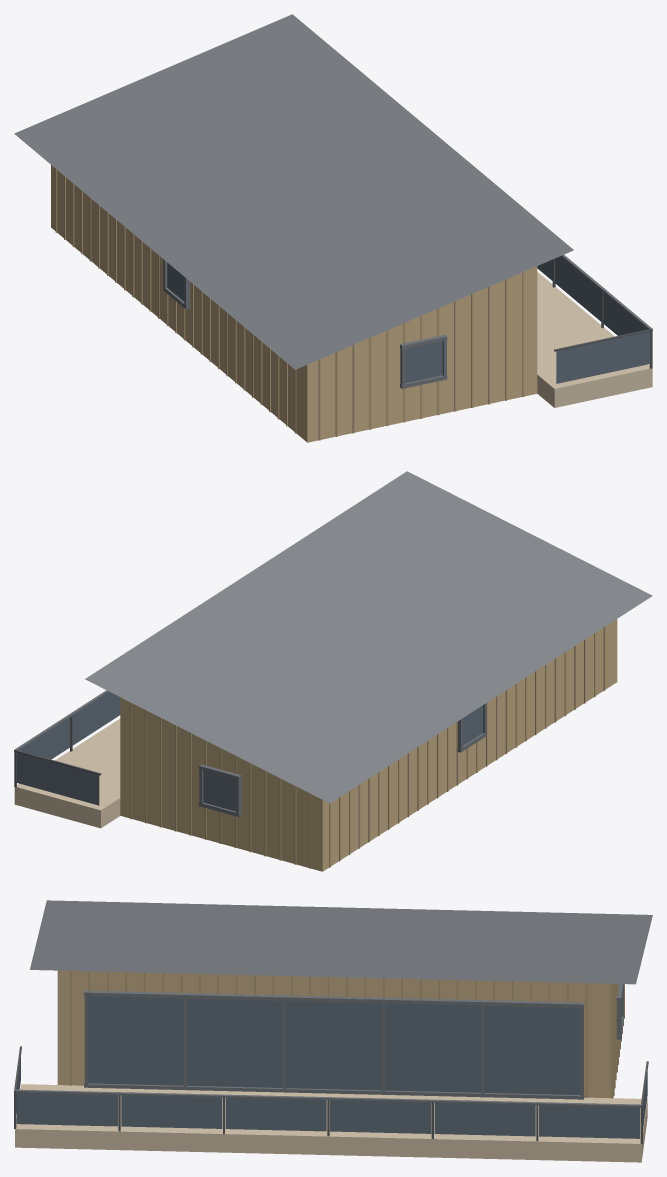
3 renders of one model, top to bottom at view 1: azimuth 30°, elevation 25°; view 2: azimuth 150°, elevation 25°; view 3: azimuth 270°, elevation 25°, orthographic. The views are drawn at different scales.
Visible parts, largest first — view 1: slate, door_wood, door_wood_p, larch, window_glass_007, slate_dk, window_glass_002, window_glass_014, window_glass_001, pipe; view 2: slate, door_wood, door_wood_p, larch, window_glass_008, slate_dk, window_glass_005, window_glass_006, window_glass_015; view 3: slate, larch, door_wood, slate_dk, window_glass_012, window_glass_013, window_glass_009, window_glass_011, window_glass_010, window_glass_001, window_glass_002, window_glass_003 (+5 smaller).
Part boxes in pixels (bbox=[...]): slate: bbox=[14, 14, 573, 369]; door_wood: bbox=[51, 165, 537, 442]; door_wood_p: bbox=[55, 169, 524, 440]; larch: bbox=[537, 272, 652, 407]; window_glass_007: bbox=[556, 331, 650, 383]; slate_dk: bbox=[163, 255, 652, 388]; window_glass_002: bbox=[555, 256, 601, 321]; window_glass_014: bbox=[405, 341, 442, 382]; window_glass_001: bbox=[603, 292, 647, 335]; pipe: bbox=[552, 258, 652, 368]; slate: bbox=[85, 471, 652, 803]; door_wood: bbox=[120, 619, 617, 871]; door_wood_p: bbox=[130, 627, 605, 868]; larch: bbox=[14, 718, 120, 828]; window_glass_008: bbox=[16, 752, 99, 805]; slate_dk: bbox=[14, 690, 486, 816]; window_glass_005: bbox=[72, 692, 120, 745]; window_glass_006: bbox=[19, 718, 70, 759]; window_glass_015: bbox=[203, 770, 235, 811]; slate: bbox=[30, 900, 652, 984]; larch: bbox=[15, 1084, 647, 1162]; door_wood: bbox=[58, 970, 611, 1098]; slate_dk: bbox=[15, 984, 641, 1107]; window_glass_012: bbox=[385, 1003, 481, 1092]; window_glass_013: bbox=[484, 1006, 580, 1094]; window_glass_009: bbox=[88, 996, 183, 1085]; window_glass_011: bbox=[286, 1001, 381, 1090]; window_glass_010: bbox=[187, 999, 282, 1087]; window_glass_001: bbox=[16, 1092, 117, 1126]; window_glass_002: bbox=[121, 1095, 222, 1128]; window_glass_003: bbox=[225, 1097, 326, 1131].
Bounding box in the file's own units: 10.19 × 3.88 × 15.59.
